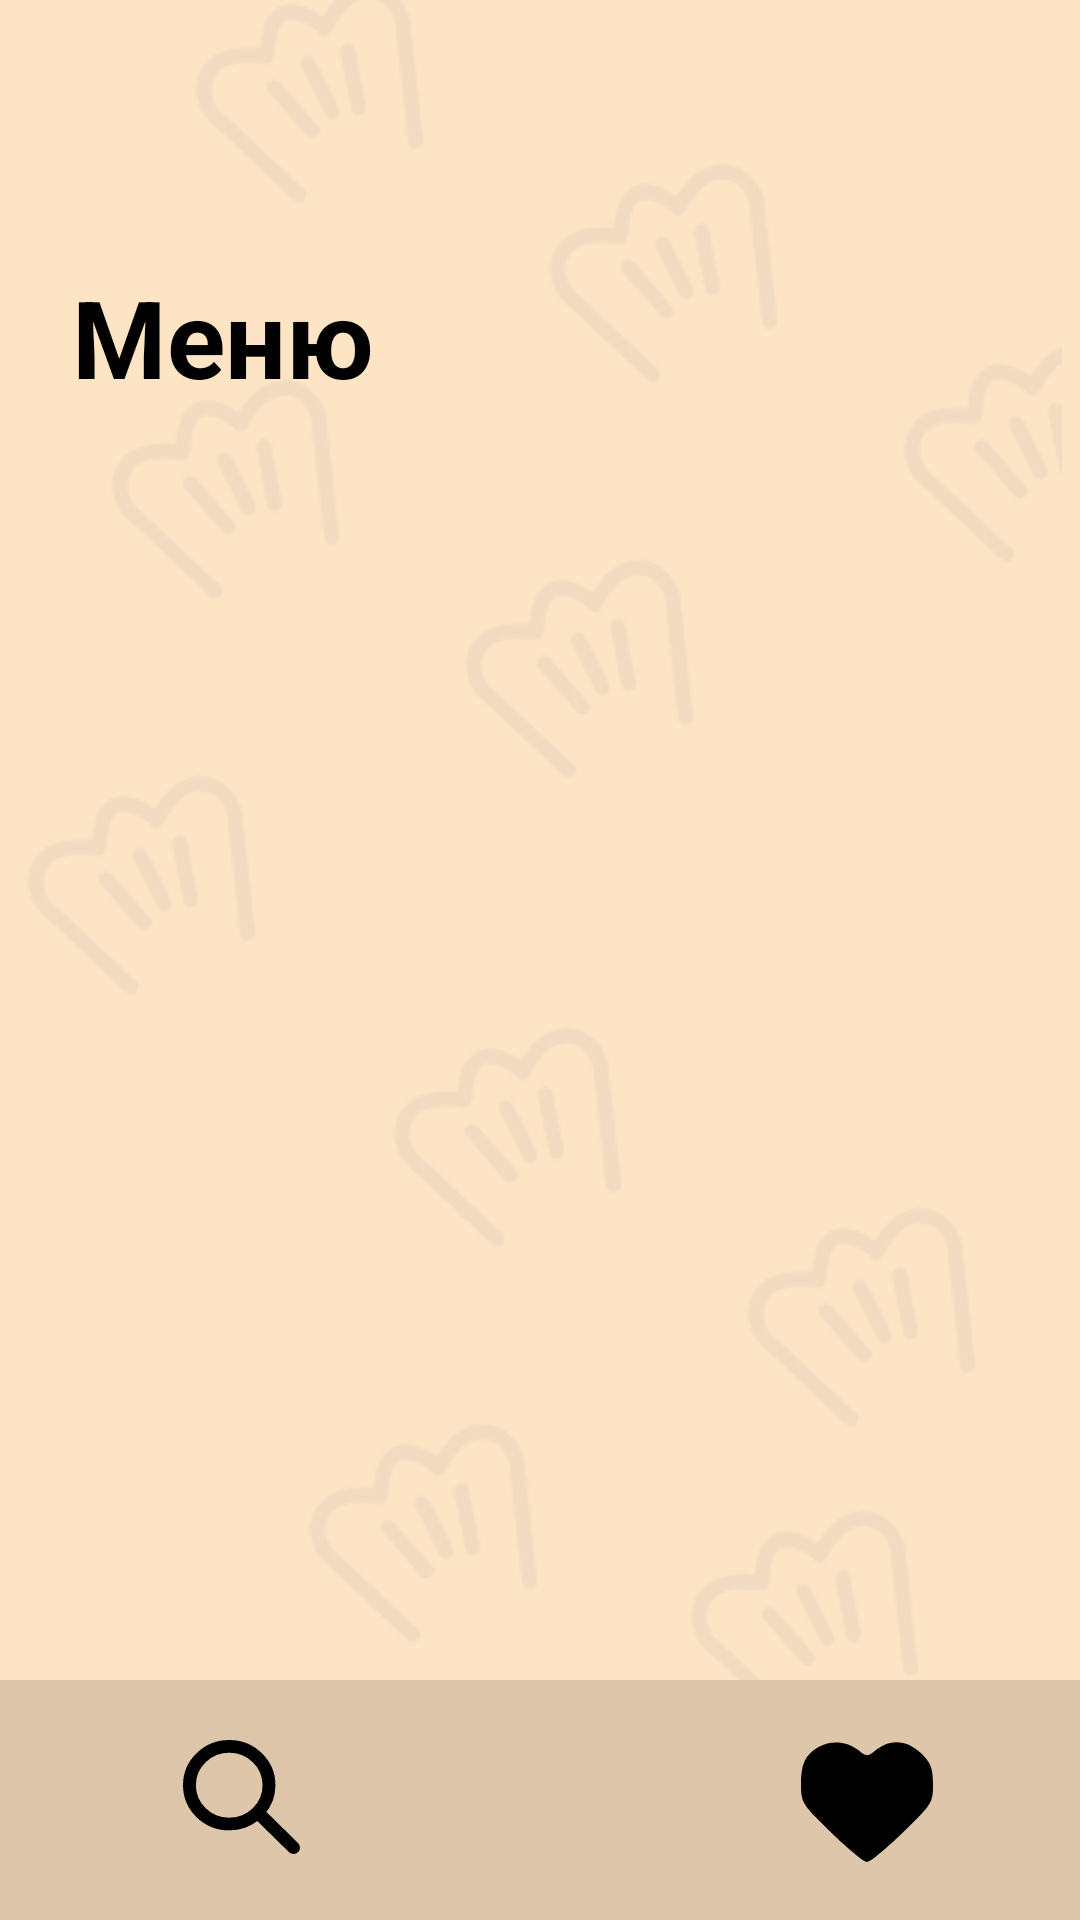

Where to tap for icons on this 1080px×1920px app screen, as (x,y):
fillheart: (867,1802)
magnifier: (241,1797)
